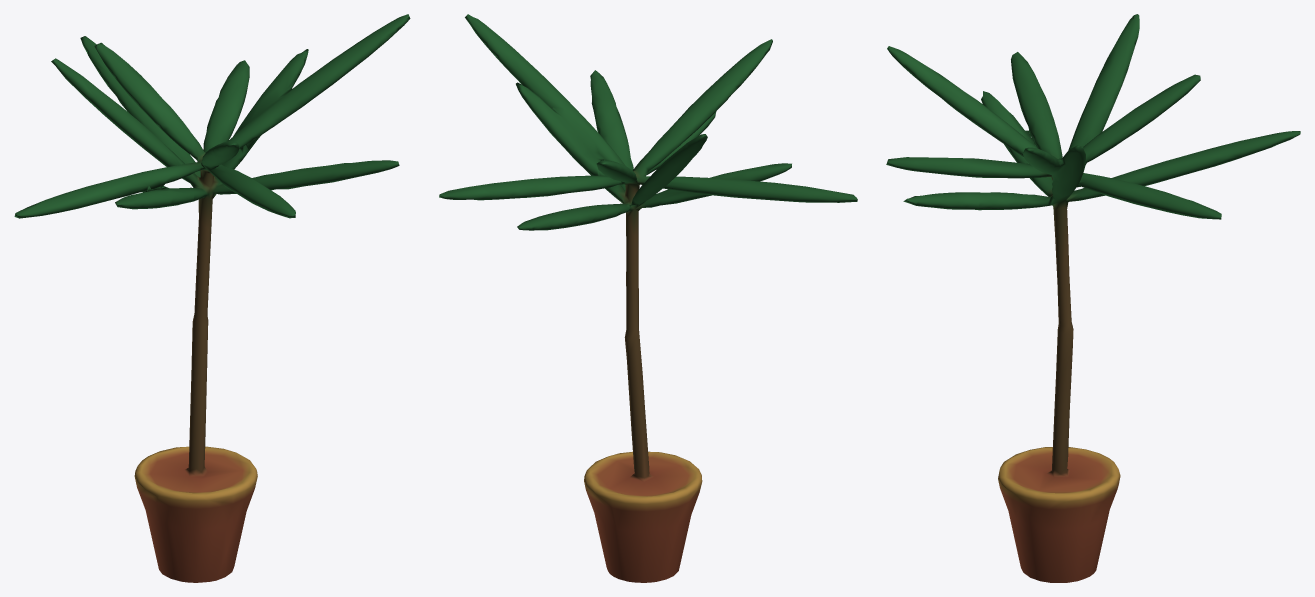
File: lumiere-palm-tall.glb
3 views of the same model, side by side, from view 1: azimuth 30°, elevation 25°; view 2: azimuth 150°, elevation 25°; view 3: azimuth 270°, elevation 25° (orthographic). The views are drawn at different scales.
Parts seen in each view (by area): view 1: lumiere-palm-tall_LOD0; view 2: lumiere-palm-tall_LOD0; view 3: lumiere-palm-tall_LOD0.
Part boxes in pixels (bbox=[...]): lumiere-palm-tall_LOD0: bbox=[14, 14, 410, 582]; lumiere-palm-tall_LOD0: bbox=[439, 14, 857, 582]; lumiere-palm-tall_LOD0: bbox=[886, 14, 1300, 582].
Size of what is drawn, in the model's own units: 2.1 by 2.58 by 1.88.
